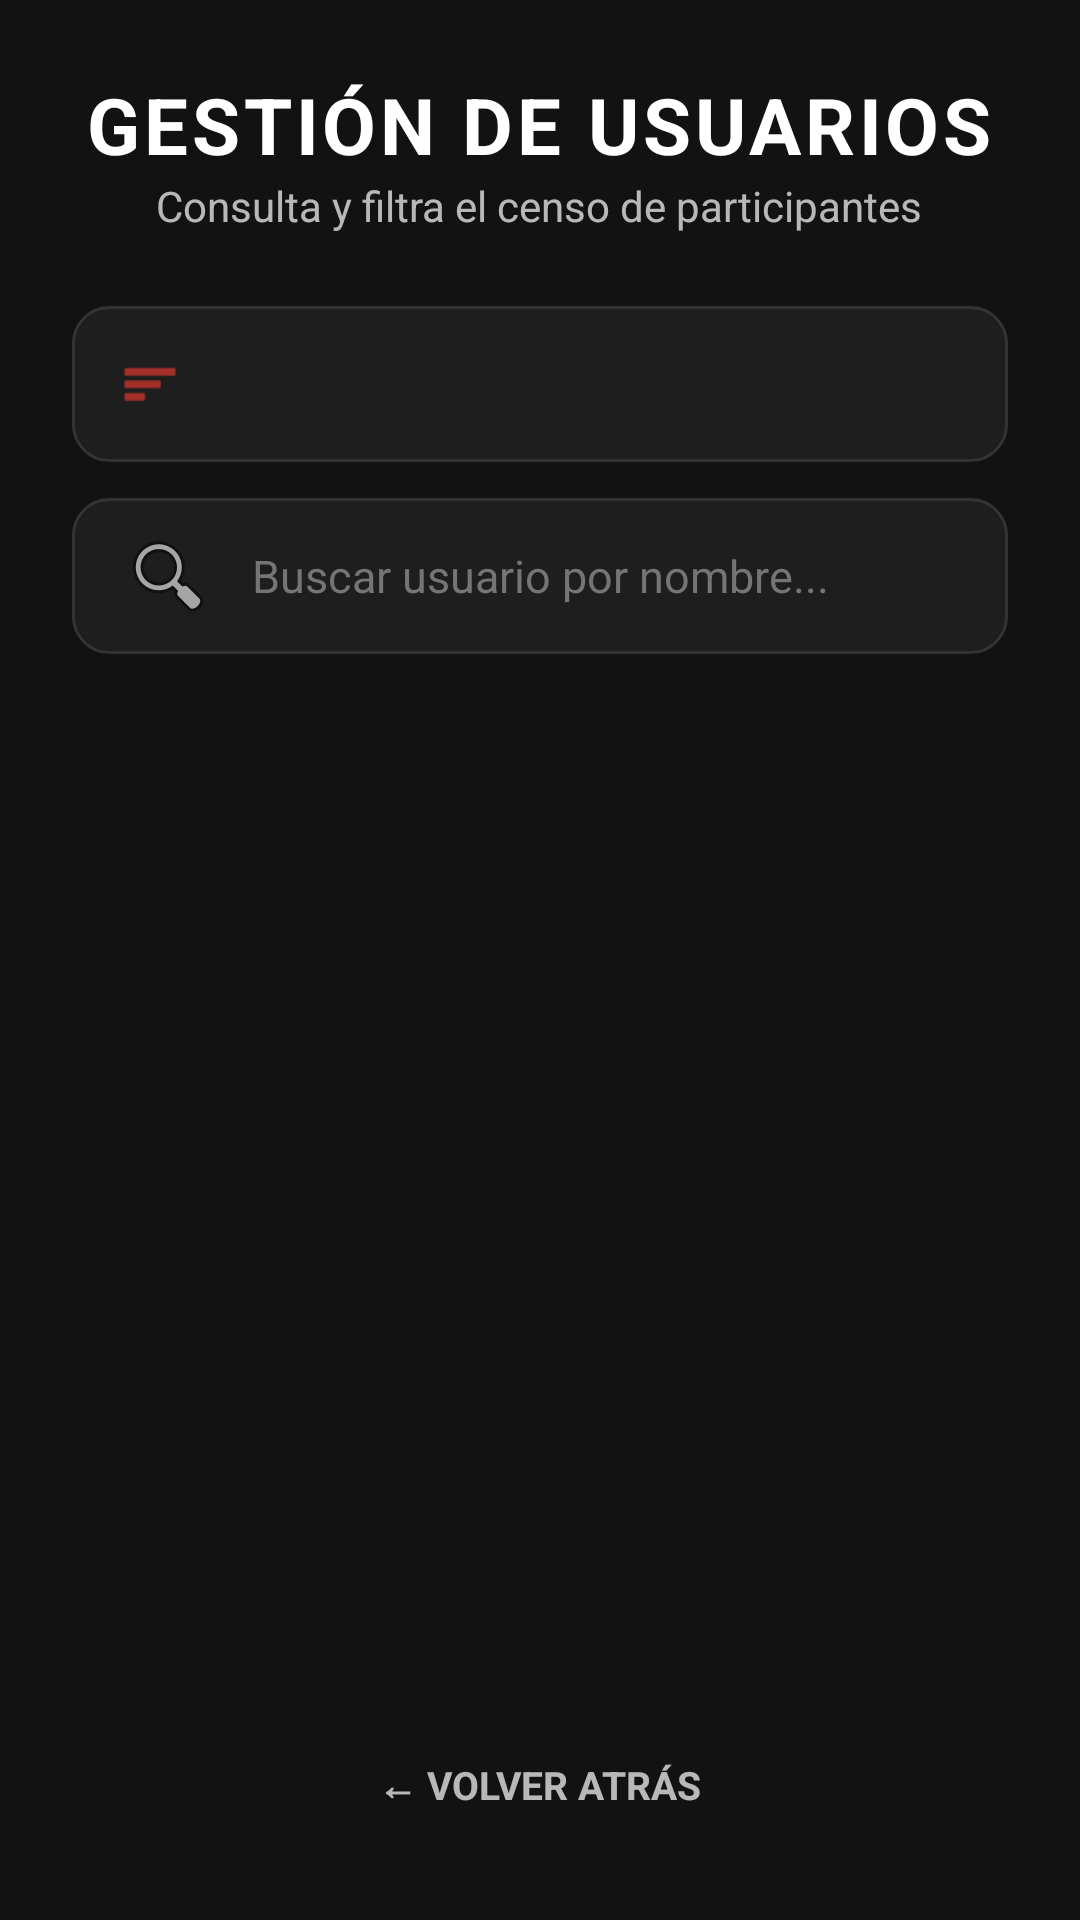

Screen size 1080 × 1920. Icon name, then its center in pixels as [x,y]:
sort by size: [150,384]
